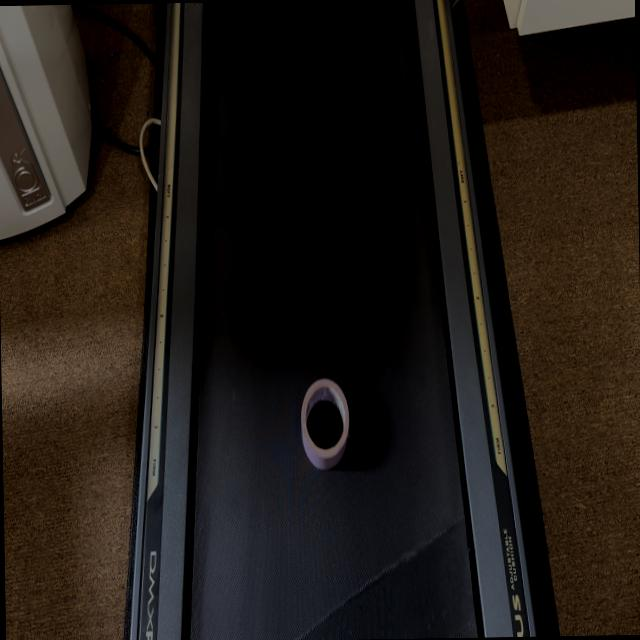Trash: (296, 379, 352, 472)
